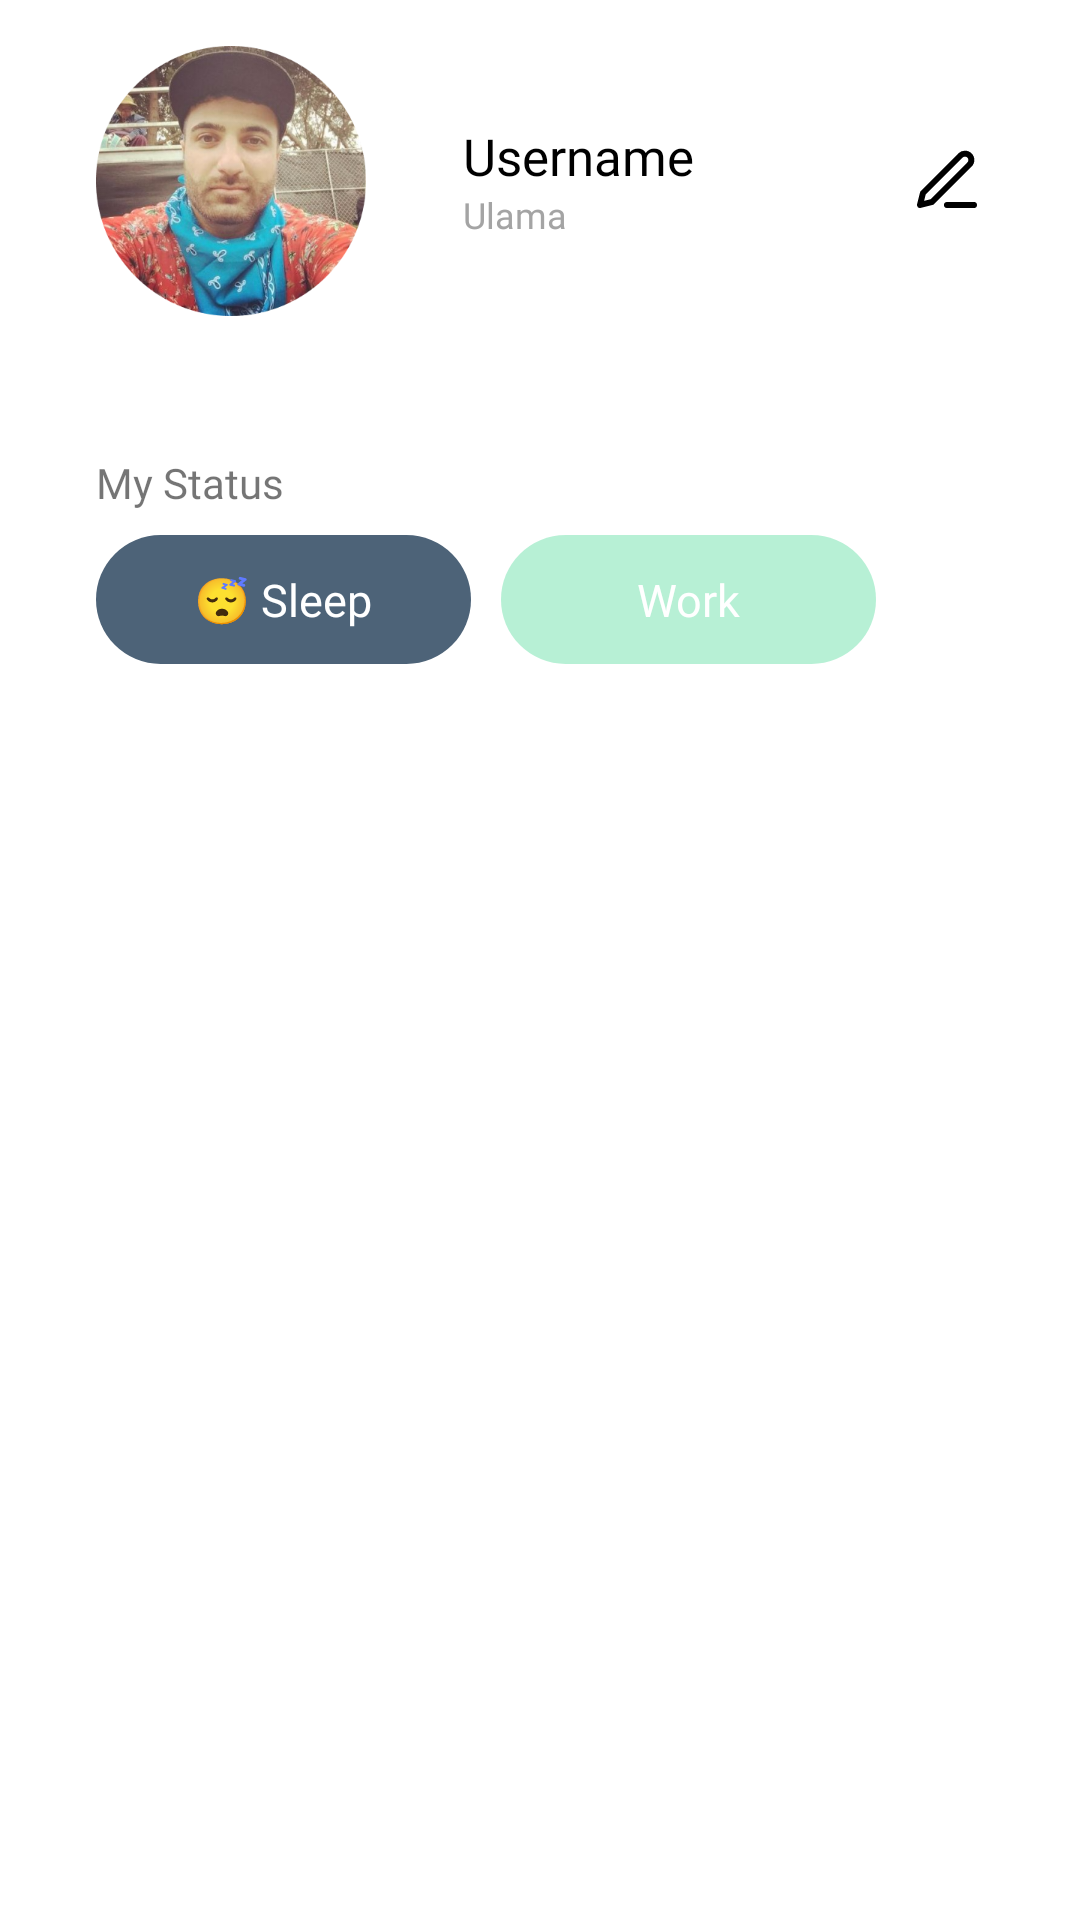

Point at icon controls on the screen. Image size 1080 x 1920, points as (x=x, y=y).
editicon: (x=947, y=179)
ex profile: (x=231, y=181)
